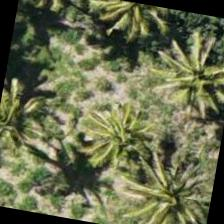Kelapa_Sawit: (70, 76, 174, 180), (122, 146, 218, 223), (0, 75, 70, 176), (157, 28, 223, 129)
